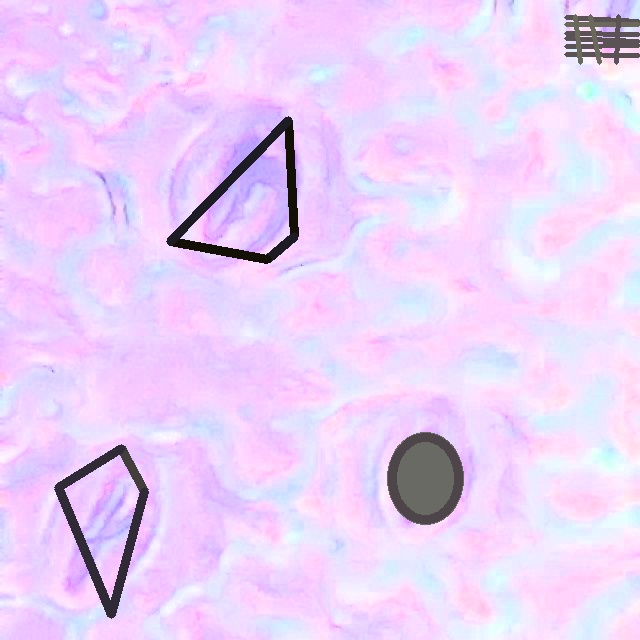open: (166, 116, 298, 263), (55, 444, 147, 617), (388, 433, 462, 524), (564, 14, 639, 64)
